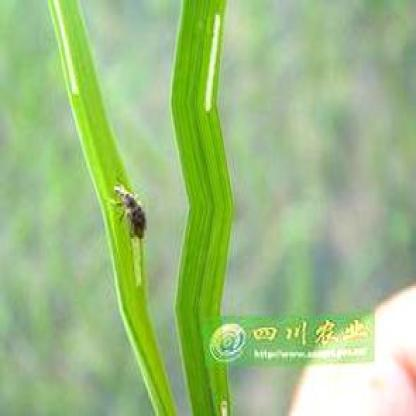rice-bug: (110, 182, 148, 242)
